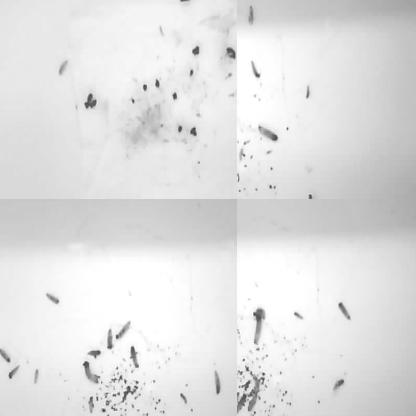PtecticusTenebrifer: (82, 359, 98, 385), (258, 124, 279, 142), (115, 320, 130, 340), (212, 368, 222, 396), (338, 303, 352, 322), (254, 314, 262, 346), (58, 57, 70, 78), (248, 392, 259, 412), (249, 60, 261, 78), (130, 346, 139, 370), (8, 365, 22, 380), (45, 292, 59, 306), (0, 347, 11, 364), (237, 394, 246, 413), (333, 379, 345, 392), (107, 328, 113, 350), (237, 375, 243, 397), (308, 192, 325, 199), (237, 133, 242, 156), (237, 216, 244, 232), (249, 5, 254, 27), (0, 217, 5, 239), (124, 199, 137, 207), (34, 369, 40, 386), (0, 394, 5, 414), (87, 350, 101, 357), (237, 146, 242, 165), (243, 0, 261, 5), (0, 374, 6, 389), (237, 153, 241, 175), (237, 158, 242, 175), (237, 176, 244, 188), (263, 0, 270, 10), (237, 185, 242, 199), (237, 355, 240, 375), (163, 199, 176, 203), (237, 0, 242, 10), (0, 199, 9, 203), (237, 199, 245, 203)
